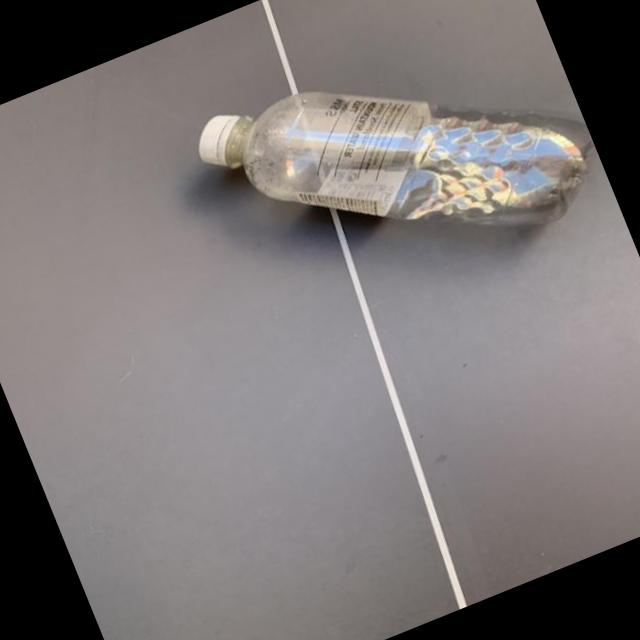BotolPlastik: (185, 0, 614, 336)
